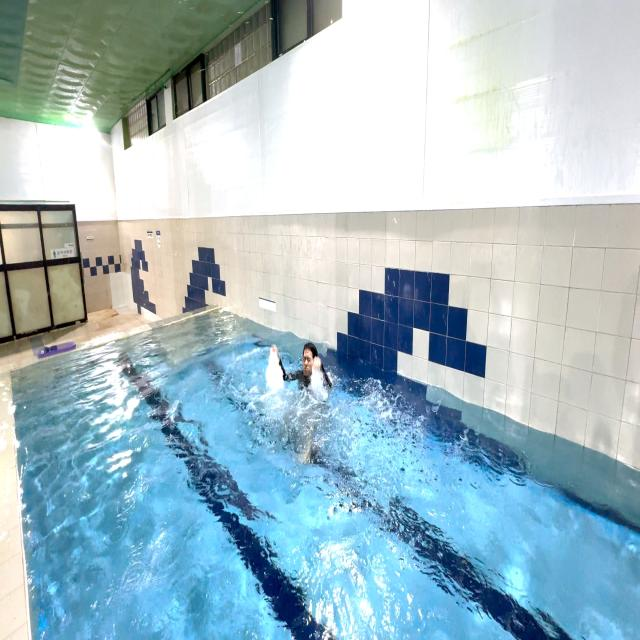Drowning: (262, 328, 340, 413)
